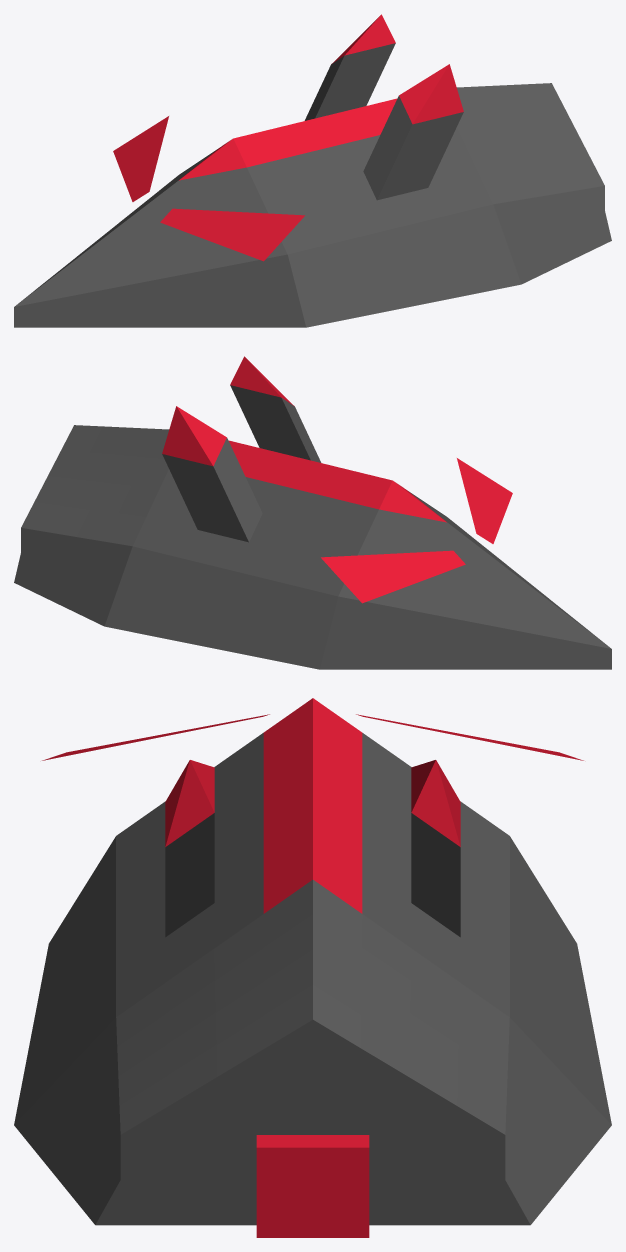
Rendered from CoolerRat.fbx.
3 renders of one model, top to bottom at view 1: azimuth 30°, elevation 25°; view 2: azimuth 150°, elevation 25°; view 3: azimuth 270°, elevation 25°, orthographic. The views are drawn at different scales.
Parts seen in each view (by area): view 1: Rat2; view 2: Rat2; view 3: Rat2.
Boxes of the visible parts, <box> form: Rat2: <box>14,14,611,327</box>; Rat2: <box>14,356,611,669</box>; Rat2: <box>14,698,611,1237</box>.
Bounding box in the file's own units: 504 × 166 × 261.
